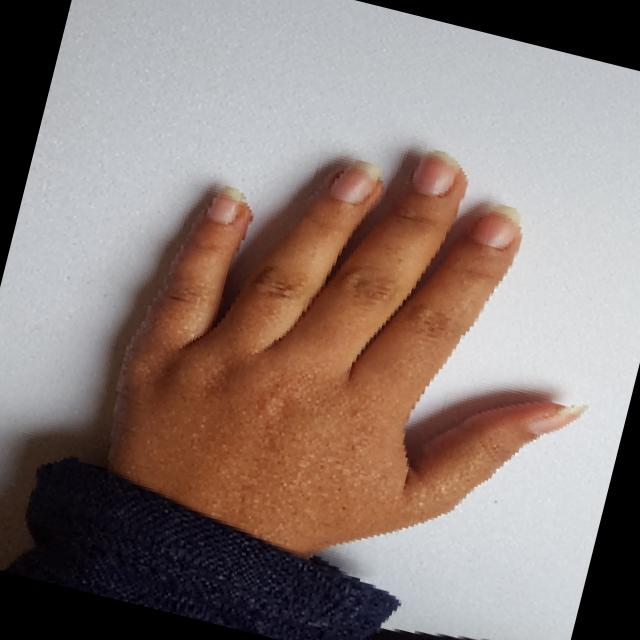Nail: (469, 204, 519, 248), (329, 160, 380, 201), (410, 150, 456, 195), (526, 403, 587, 432), (206, 185, 243, 223)
